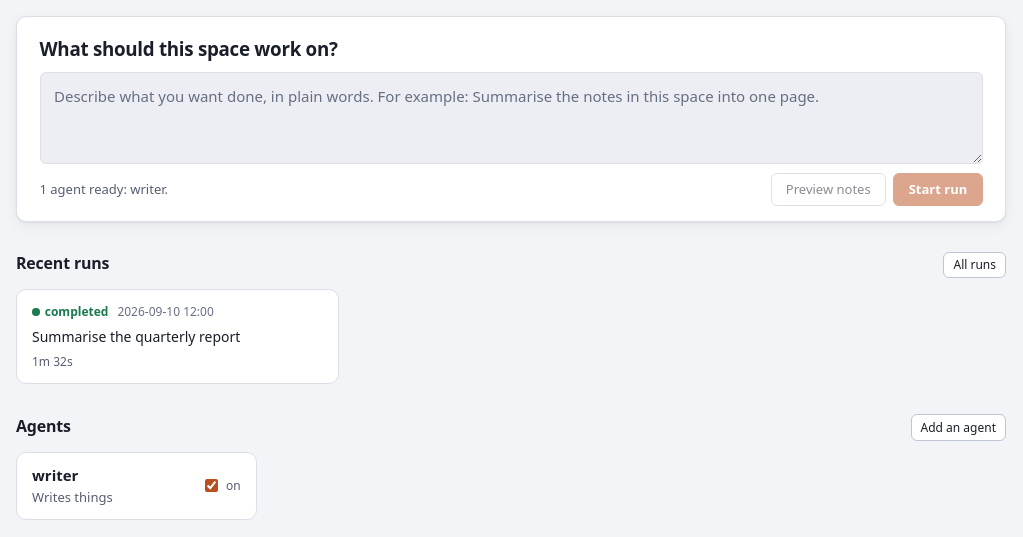
Test: starting a run › shows a failed start beside the box
This screenshot has width=1023, height=537.
Type "do a thing" into the text box with test id "goal-input". click: (511, 118)
box: [40,72,982,164]
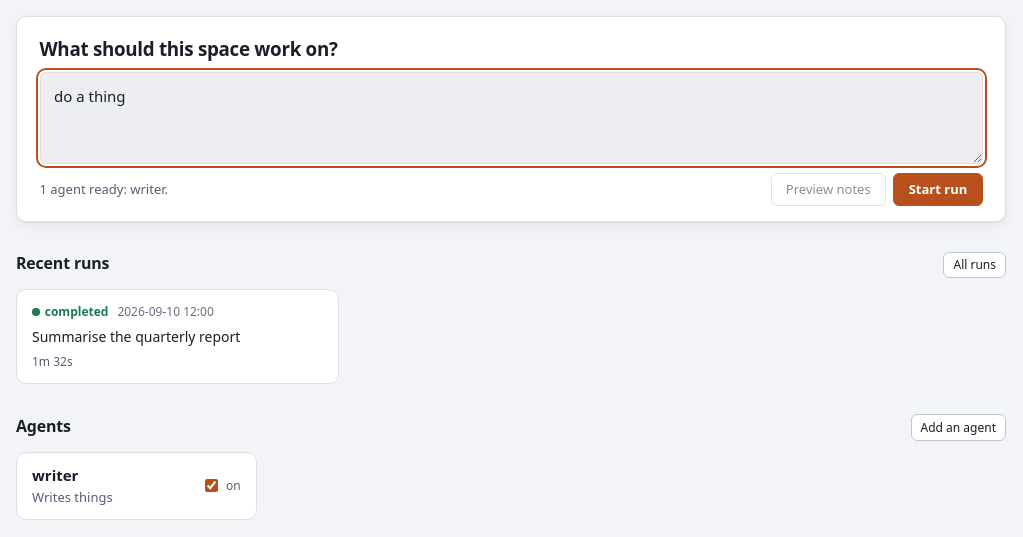
Click the button "Start run". click: (938, 190)
box: [893,173,982,206]
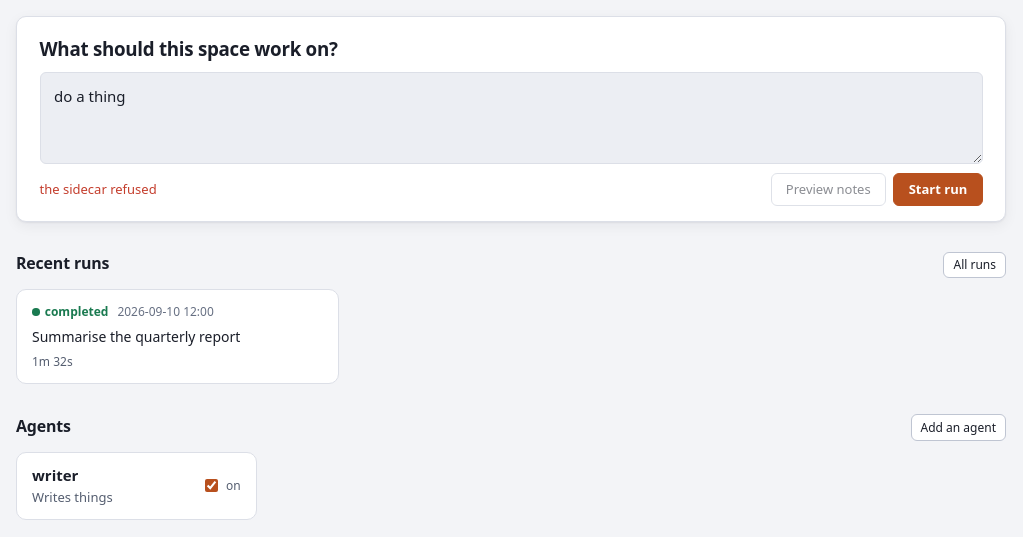
Expected: the message shows "refused", [40,180,157,198]
